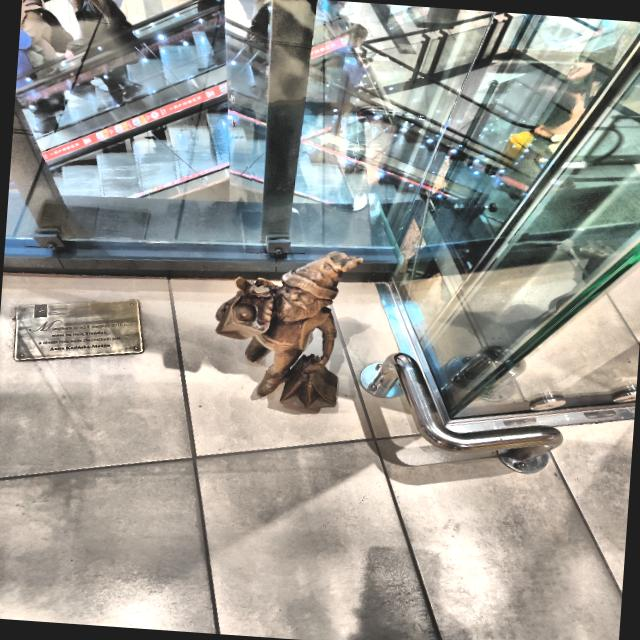Trendus: (215, 251, 363, 411)
